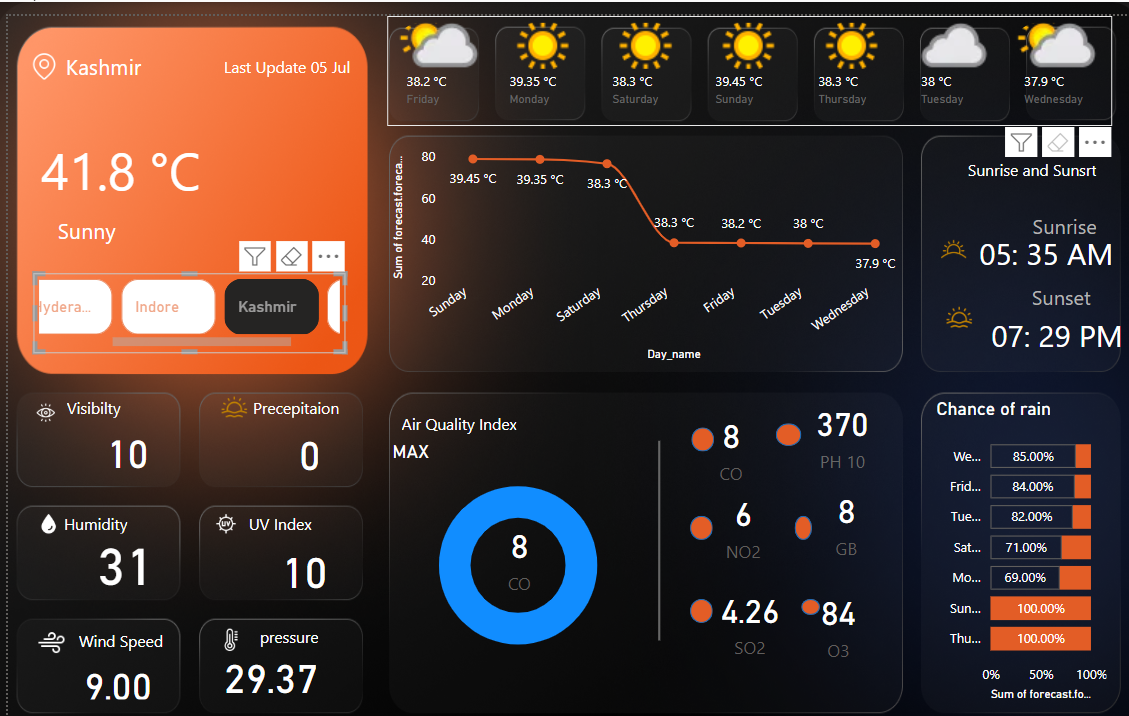

This screenshot's page, from the dashboard's own definition file:
{"tool":"powerbi","page":{"name":"Page 1","canvas":[2000,1500],"ordinal":0},"visuals":[{"type":"advancedSlicerVisual","fields":{"Values":["location.location.name"]},"box":[23.8,240,291.2,75],"z":0},{"type":"shape","box":[20,67.5,300,150],"z":1000},{"type":"shape","box":[43.8,182.5,281.2,35],"z":2000},{"type":"shape","box":[51.3,28.2,119.2,35.9],"z":3000},{"type":"image","box":[16.7,28.2,34.6,35.9],"z":4000},{"type":"shape","box":[198.8,30,208.8,35],"z":5000},{"type":"image","box":[16.2,458.8,43.8,30],"z":6000},{"type":"image","box":[185,347.5,52.5,33.8],"z":7000},{"type":"image","box":[16.2,356.2,38.8,27.5],"z":8000},{"type":"image","box":[178.8,458.8,48.8,30],"z":9000},{"type":"image","box":[16.2,566.2,48.8,36.2],"z":10000},{"type":"image","box":[185,566.2,46.2,31.2],"z":11000},{"type":"shape","box":[51.2,341.2,81.2,47.5],"z":12000},{"type":"shape","box":[228.2,359,209,47.4],"z":13000},{"type":"shape","box":[225,341.2,103.8,47.5],"z":14000},{"type":"shape","box":[48.8,450,100,46.2],"z":15000},{"type":"shape","box":[221.2,450,82.5,46.2],"z":16000},{"type":"shape","box":[62.5,558.8,107.5,47.5],"z":17000},{"type":"shape","box":[231.2,555,176.2,47.5],"z":18000},{"type":"card","fields":{"Values":["Sum(curent.current.humidity)"]},"box":[65,473.8,88.8,68.8],"z":19000},{"type":"card","fields":{"Values":["Sum(curent.current.pressure_in)"]},"box":[153.8,578.8,182.5,72.5],"z":20000},{"type":"card","fields":{"Values":["Sum(curent.current.wind_kph)"]},"box":[51.2,602.5,102.5,40],"z":21000},{"type":"card","fields":{"Values":["Sum(curent.current.precip_in)"]},"box":[237.5,383.8,87.5,46.2],"z":22000},{"type":"card","fields":{"Values":["Sum(curent.current.uv)"]},"box":[237.5,488.8,77.5,53.8],"z":23000},{"type":"card","fields":{"Values":["Sum(curent.current.vis_km)"]},"box":[68.8,381.2,85,47.5],"z":24000},{"type":"advancedSlicerVisual","fields":{"Values":["forecast_day.Day_name"]},"box":[353.8,0,676.2,102.5],"z":25000},{"type":"lineChart","fields":{"Y":["Sum(forecast_day.forecast.forecastday.day.avgtemp_c)"],"Category":["forecast_day.Day_name"]},"box":[353.8,115,485,211.2],"z":26000},{"type":"shape","box":[891.2,115,150,56.2],"z":27000},{"type":"shape","box":[902.5,197.5,308.8,47.5],"z":28000},{"type":"shape","box":[952.5,245,258.8,33.8],"z":29000},{"type":"shape","box":[952.5,172.5,95,45],"z":30000},{"type":"shape","box":[913.8,273.8,308.8,47.5],"z":31000},{"type":"image","box":[861.2,263.8,52.5,33.8],"z":32000},{"type":"image","box":[861.2,195,41.2,45],"z":33000},{"type":"hundredPercentStackedBarChart","title":"Chance of rain","fields":{"Y":["Sum(forecast_day.forecast.forecastday.day.daily_chance_of_rain)","_measures.left_value_rain"],"Category":["forecast_day.Day_name"]},"box":[861.2,356.2,168.8,287.5],"z":34000},{"type":"shape","box":[363.8,357.5,121.2,46.2],"z":35000},{"type":"card","fields":{"Values":["Sum(curent.current.air_quality.co)"]},"box":[733.8,350,88.8,80],"z":36000},{"type":"card","fields":{"Values":["Sum(curent.current.air_quality.gb-defra-index)"]},"box":[626.2,358.8,96.2,85],"z":37000},{"type":"card","fields":{"Values":["Sum(curent.current.air_quality.gb-defra-index)"]},"box":[733.8,428.8,96.2,85],"z":38000},{"type":"card","fields":{"Values":["Sum(curent.current.air_quality.no2)"]},"box":[637.5,431.2,96.2,85],"z":39000},{"type":"card","fields":{"Values":["Sum(curent.current.air_quality.o3)"]},"box":[726.2,523.8,96.2,85],"z":40000},{"type":"card","fields":{"Values":["Sum(curent.current.air_quality.so2)"]},"box":[643.8,521.2,96.2,85],"z":40001},{"type":"shape","box":[637.5,383.8,21.2,22.5],"z":40002},{"type":"shape","box":[636.2,466.2,21.2,22.5],"z":40003},{"type":"shape","box":[733.8,466.2,16.2,22.5],"z":40004},{"type":"shape","box":[636.2,543.8,21.2,22.5],"z":40005},{"type":"shape","box":[716.2,380,23.8,21.2],"z":40006},{"type":"shape","box":[740,543.8,17.5,15],"z":40007},{"type":"shape","box":[588.8,396.2,37.5,186.2],"z":40008},{"type":"donutChart","fields":{"Y":["_measures.MAX"]},"box":[353.8,396.2,243.8,213.8],"z":40009},{"type":"card","fields":{"Values":["Sum(curent.current.air_quality.gb-defra-index)"]},"box":[428.8,461.2,96.2,85],"z":40010}]}

Visuals, with their boxes on the page's 2000x1500 design canvas (x1, y1, x2, y2). These are canvas units, not pixel positions in the 1129x716 screenshot, which may show the page scaled, cropped or inside an application window:
advancedSlicerVisual - location.location.name: <region>24, 240, 315, 315</region>
shape: <region>20, 68, 320, 218</region>
shape: <region>44, 182, 325, 218</region>
shape: <region>51, 28, 170, 64</region>
image: <region>17, 28, 51, 64</region>
shape: <region>199, 30, 408, 65</region>
image: <region>16, 459, 60, 489</region>
image: <region>185, 348, 238, 381</region>
image: <region>16, 356, 55, 384</region>
image: <region>179, 459, 228, 489</region>
image: <region>16, 566, 65, 602</region>
image: <region>185, 566, 231, 597</region>
shape: <region>51, 341, 132, 389</region>
shape: <region>228, 359, 437, 406</region>
shape: <region>225, 341, 329, 389</region>
shape: <region>49, 450, 149, 496</region>
shape: <region>221, 450, 304, 496</region>
shape: <region>62, 559, 170, 606</region>
shape: <region>231, 555, 407, 602</region>
card - Sum(curent.current.humidity): <region>65, 474, 154, 543</region>
card - Sum(curent.current.pressure_in): <region>154, 579, 336, 651</region>
card - Sum(curent.current.wind_kph): <region>51, 602, 154, 642</region>
card - Sum(curent.current.precip_in): <region>238, 384, 325, 430</region>
card - Sum(curent.current.uv): <region>238, 489, 315, 543</region>
card - Sum(curent.current.vis_km): <region>69, 381, 154, 429</region>
advancedSlicerVisual - forecast_day.Day_name: <region>354, 0, 1030, 102</region>
lineChart - Sum(forecast_day.forecast.forecastday.day.avgtemp_c) x forecast_day.Day_name: <region>354, 115, 839, 326</region>
shape: <region>891, 115, 1041, 171</region>
shape: <region>902, 198, 1211, 245</region>
shape: <region>952, 245, 1211, 279</region>
shape: <region>952, 172, 1048, 218</region>
shape: <region>914, 274, 1223, 321</region>
image: <region>861, 264, 914, 298</region>
image: <region>861, 195, 902, 240</region>
"Chance of rain" hundredPercentStackedBarChart: <region>861, 356, 1030, 644</region>
shape: <region>364, 358, 485, 404</region>
card - Sum(curent.current.air_quality.co): <region>734, 350, 823, 430</region>
card - Sum(curent.current.air_quality.gb-defra-index): <region>626, 359, 722, 444</region>
card - Sum(curent.current.air_quality.gb-defra-index): <region>734, 429, 830, 514</region>
card - Sum(curent.current.air_quality.no2): <region>638, 431, 734, 516</region>
card - Sum(curent.current.air_quality.o3): <region>726, 524, 822, 609</region>
card - Sum(curent.current.air_quality.so2): <region>644, 521, 740, 606</region>
shape: <region>638, 384, 659, 406</region>
shape: <region>636, 466, 657, 489</region>
shape: <region>734, 466, 750, 489</region>
shape: <region>636, 544, 657, 566</region>
shape: <region>716, 380, 740, 401</region>
shape: <region>740, 544, 758, 559</region>
shape: <region>589, 396, 626, 582</region>
donutChart - _measures.MAX: <region>354, 396, 598, 610</region>
card - Sum(curent.current.air_quality.gb-defra-index): <region>429, 461, 525, 546</region>
